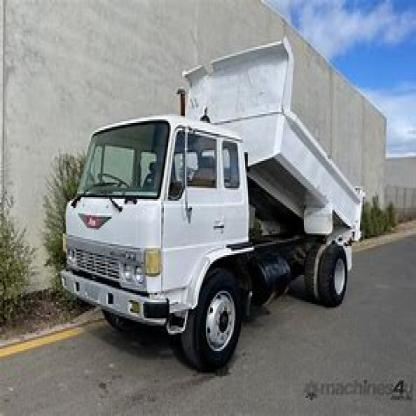dump_truck: (44, 36, 380, 393)
